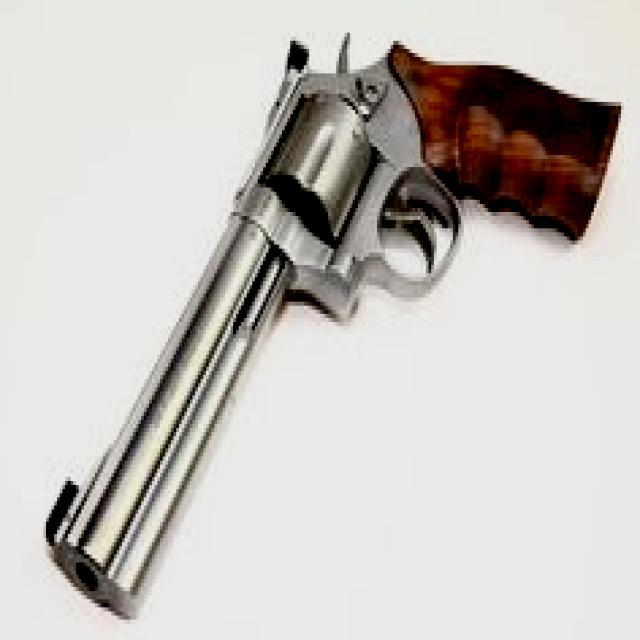revolver: (6, 12, 640, 639)
